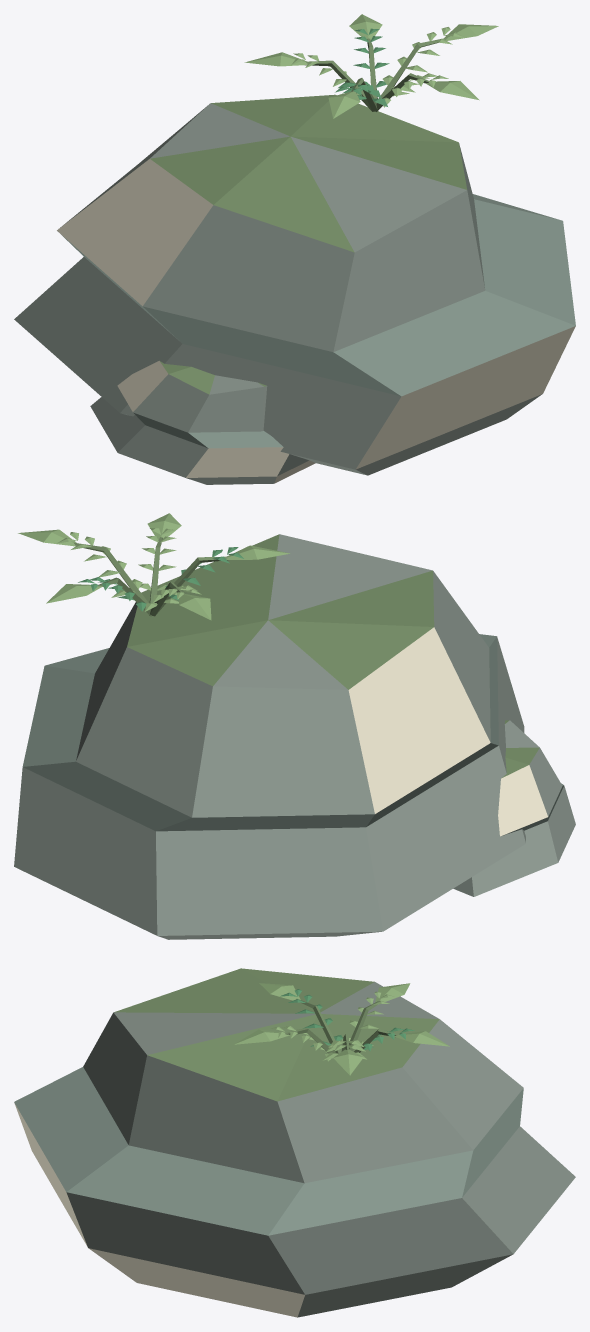
File: boulder_moss_flat.glb
3 renders of one model, top to bottom at view 1: azimuth 30°, elevation 25°; view 2: azimuth 150°, elevation 25°; view 3: azimuth 270°, elevation 25°, orthographic. The views are drawn at different scales.
Visible parts, largest first — view 1: boulder_moss_flat / mesh; view 2: boulder_moss_flat / mesh; view 3: boulder_moss_flat / mesh.
Boxes of the visible parts, bbox=[...] form: boulder_moss_flat / mesh: bbox=[14, 14, 575, 484]; boulder_moss_flat / mesh: bbox=[14, 513, 575, 939]; boulder_moss_flat / mesh: bbox=[14, 968, 575, 1317].
Bounding box in the file's own units: 2.9 × 1.7 × 3.28.
